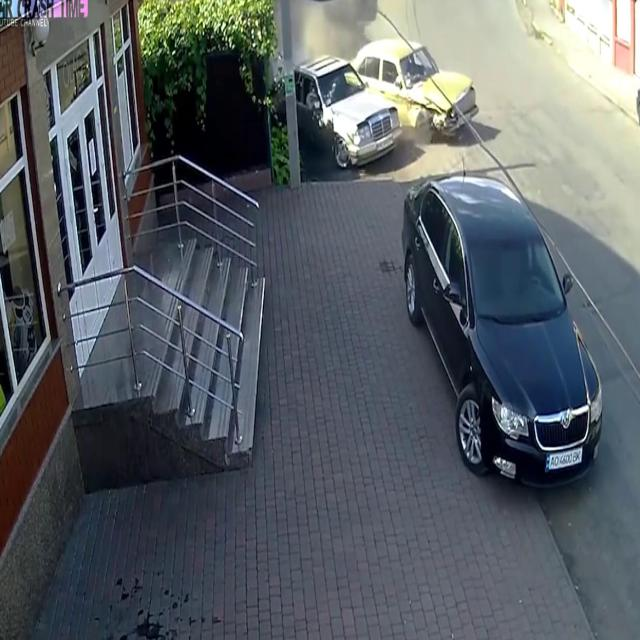accident: (296, 28, 487, 174)
